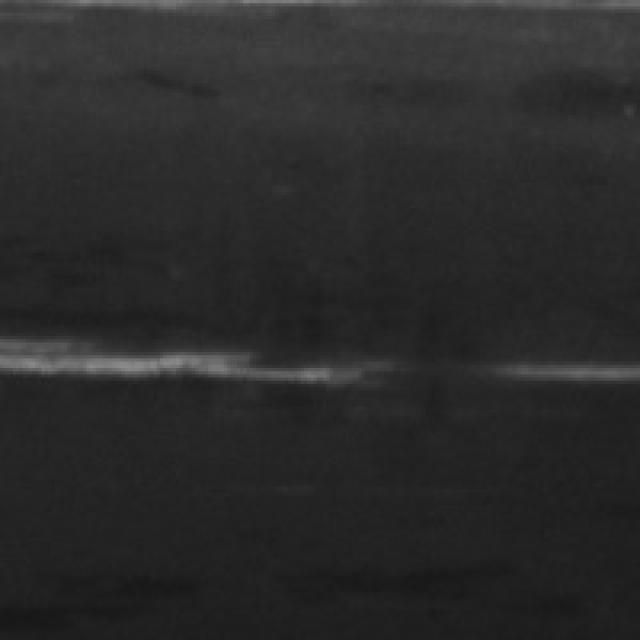scratches: (0, 316, 390, 393), (480, 342, 634, 393)
